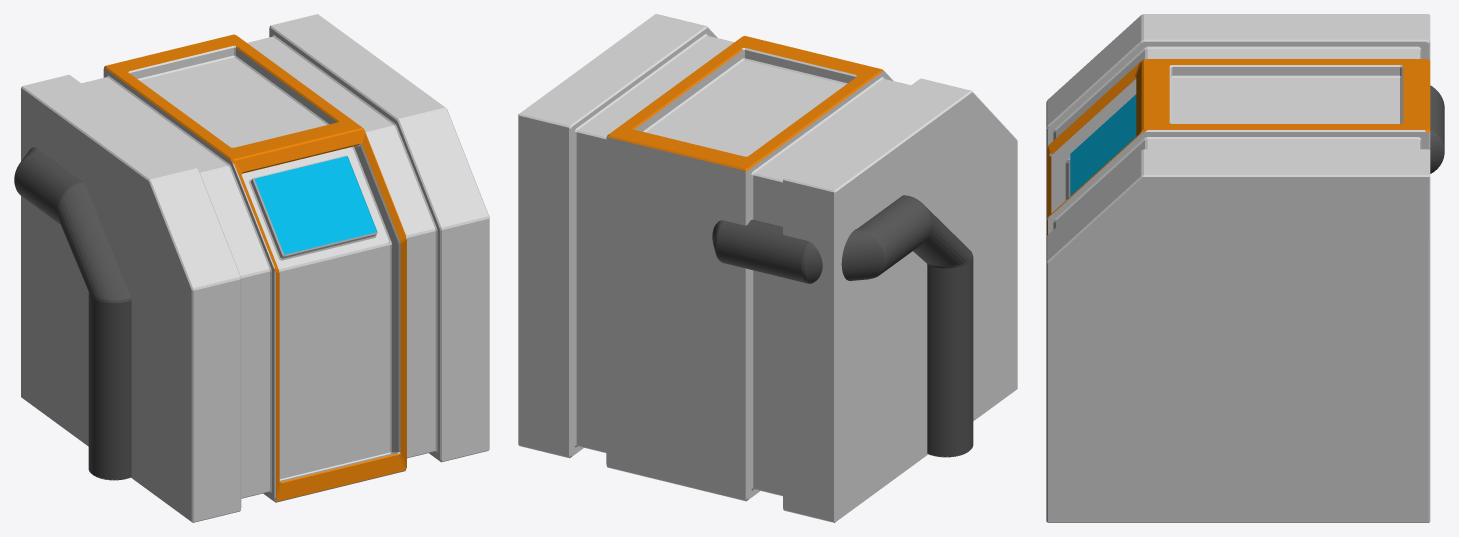
Rendered from terminal_01.fbx.
3 renders of one model, left to right at view 1: azimuth 30°, elevation 25°; view 2: azimuth 150°, elevation 25°; view 3: azimuth 270°, elevation 25°, orthographic. The views are drawn at different scales.
Parts seen in each view (by area): view 1: terminal_01; view 2: terminal_01; view 3: terminal_01.
Part boxes in pixels (x1,y1,x2,y2): terminal_01: (14, 14, 489, 522); terminal_01: (518, 14, 1017, 522); terminal_01: (1046, 14, 1444, 522).
Size of the model in its own units: 655 by 600 by 622.
